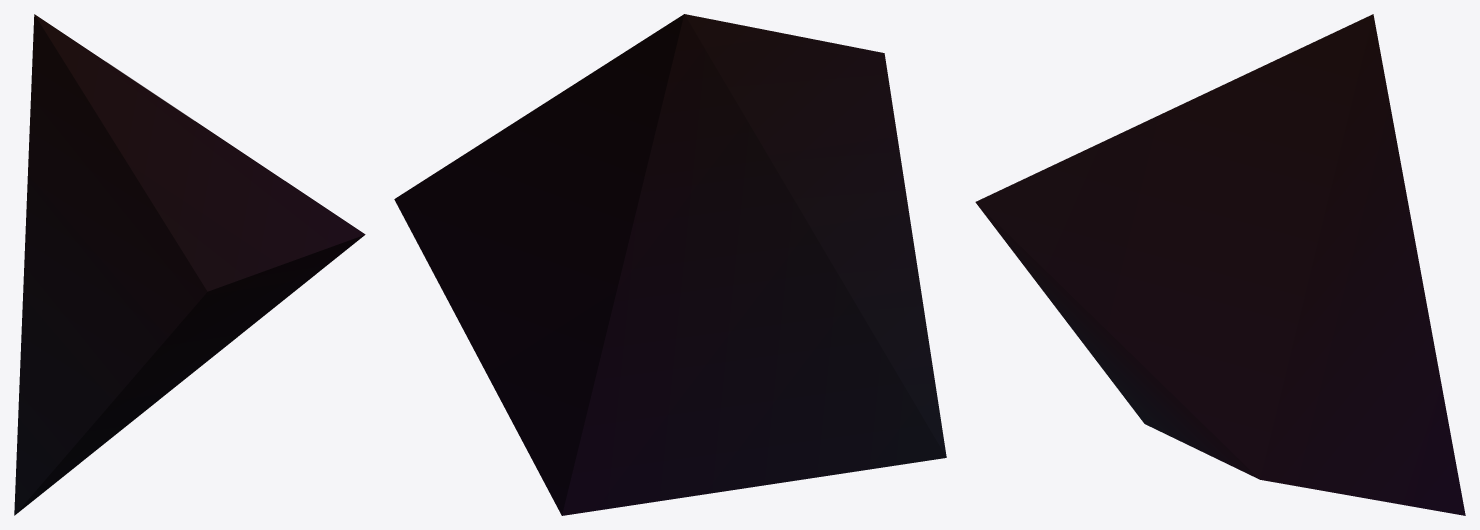
The model's file is tf_river_boulder_3m_lod2.glb.
3 renders of one model, left to right at view 1: azimuth 30°, elevation 25°; view 2: azimuth 150°, elevation 25°; view 3: azimuth 270°, elevation 25°, orthographic. The views are drawn at different scales.
Parts seen in each view (by area): view 1: tf_river_boulder_3m_lod2; view 2: tf_river_boulder_3m_lod2; view 3: tf_river_boulder_3m_lod2.
Part boxes in pixels (<box>): tf_river_boulder_3m_lod2: <box>14,14,365,515</box>; tf_river_boulder_3m_lod2: <box>394,14,946,515</box>; tf_river_boulder_3m_lod2: <box>975,14,1465,515</box>.
Bounding box in the file's own units: 2.65 × 2.55 × 2.38.
